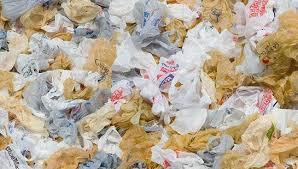Plastic bag: (4, 3, 298, 169)
